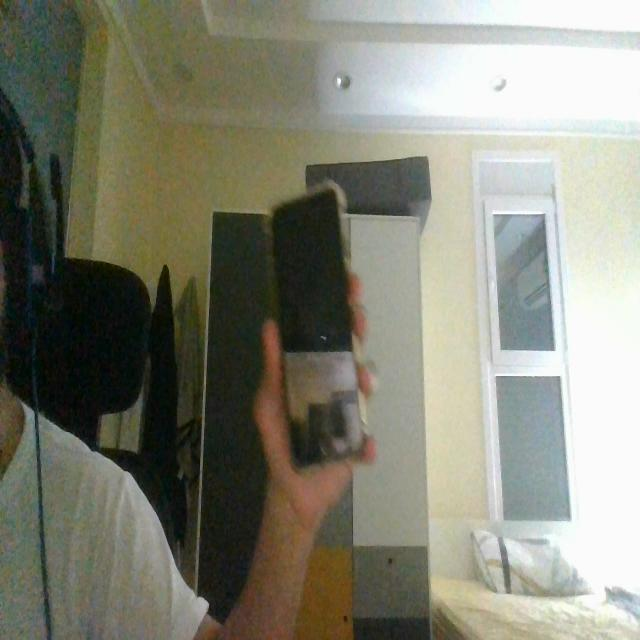Phone: (263, 180, 374, 475)
